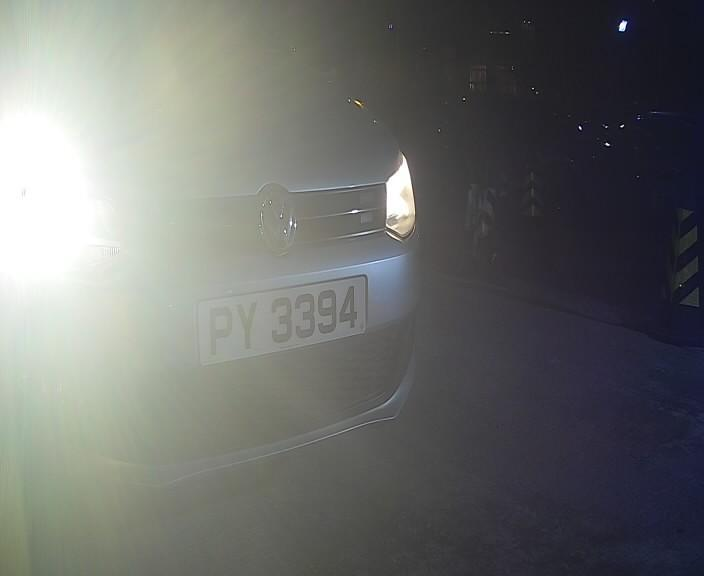privatecar: (1, 16, 463, 468)
